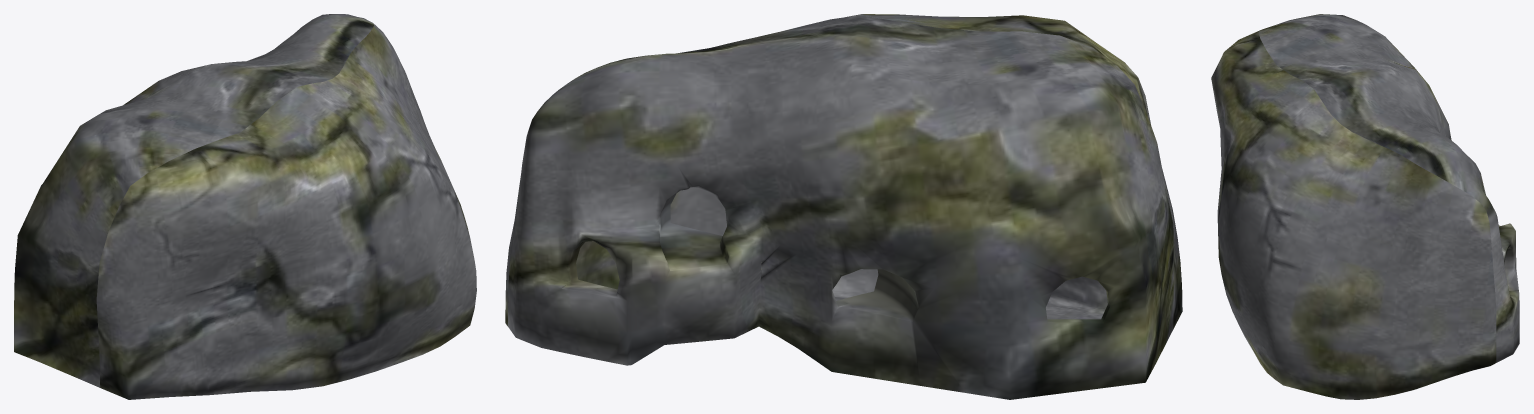
File: Rock.fbx
The picture shows the model from 3 angles, left to right: view 1: azimuth 30°, elevation 25°; view 2: azimuth 150°, elevation 25°; view 3: azimuth 270°, elevation 25°; orthographic projection. The views are drawn at different scales.
Visible parts, largest first — view 1: Cube; view 2: Cube; view 3: Cube.
Part boxes in pixels (x1,y1,x2,y2): Cube: (14,14,476,399); Cube: (505,14,1182,399); Cube: (1211,14,1519,399).
Bounding box in the file's own units: 221 × 125 × 146.
1 material, 1 textured.
